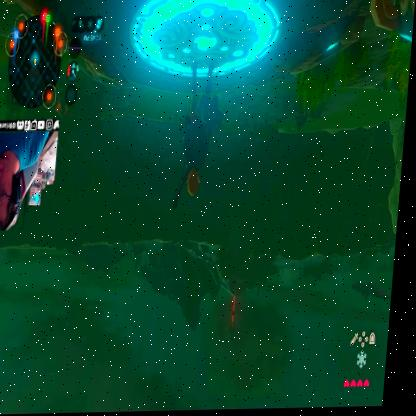streamer: (0, 131, 54, 232)
